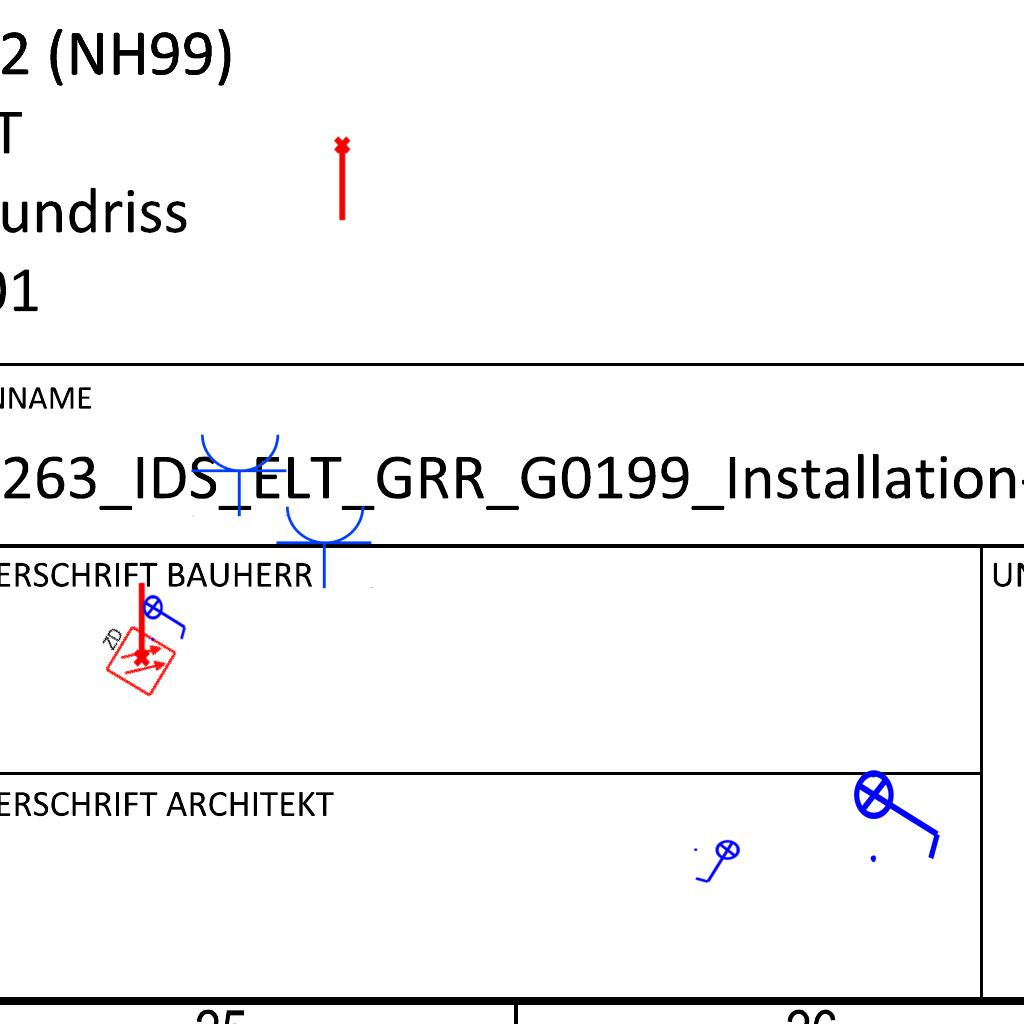ASR_Ansaugoeffnung: (332, 135, 355, 223), (129, 580, 152, 668)
Ausschalter_beleuchtet: (852, 756, 948, 868), (691, 839, 747, 887), (142, 588, 190, 644)
Schukosteckdose_einfach: (275, 502, 375, 589), (190, 430, 290, 517)
ZD_Melder_in_Zwischendecke_mit_Revisionsoeffnung_mind_40_x_40_cm: (86, 613, 179, 701)
